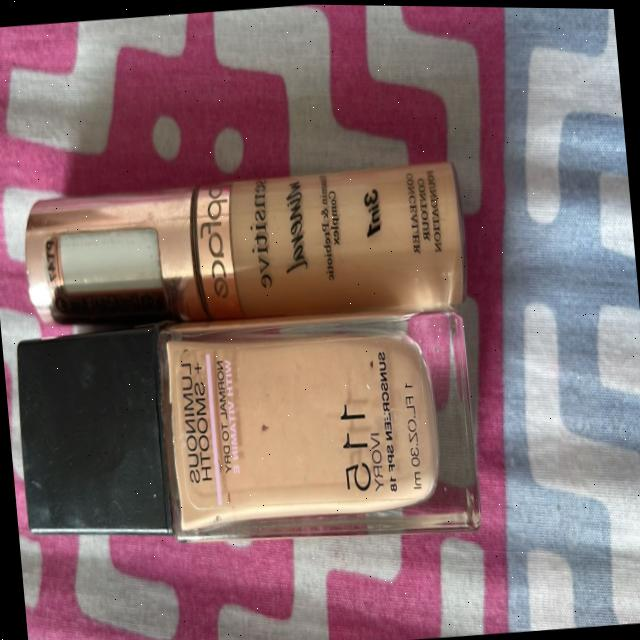concealer: (0, 123, 479, 348)
foundation: (0, 262, 518, 588)
